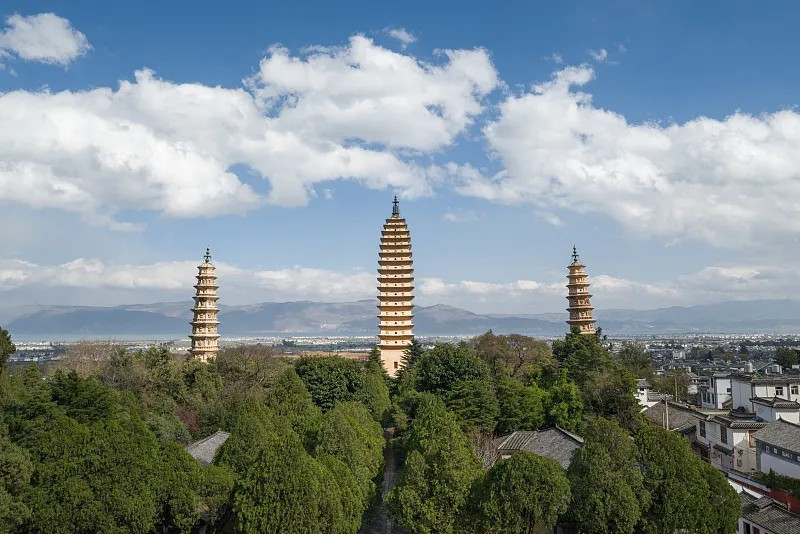ThreePagoda: (376, 195, 416, 377)
